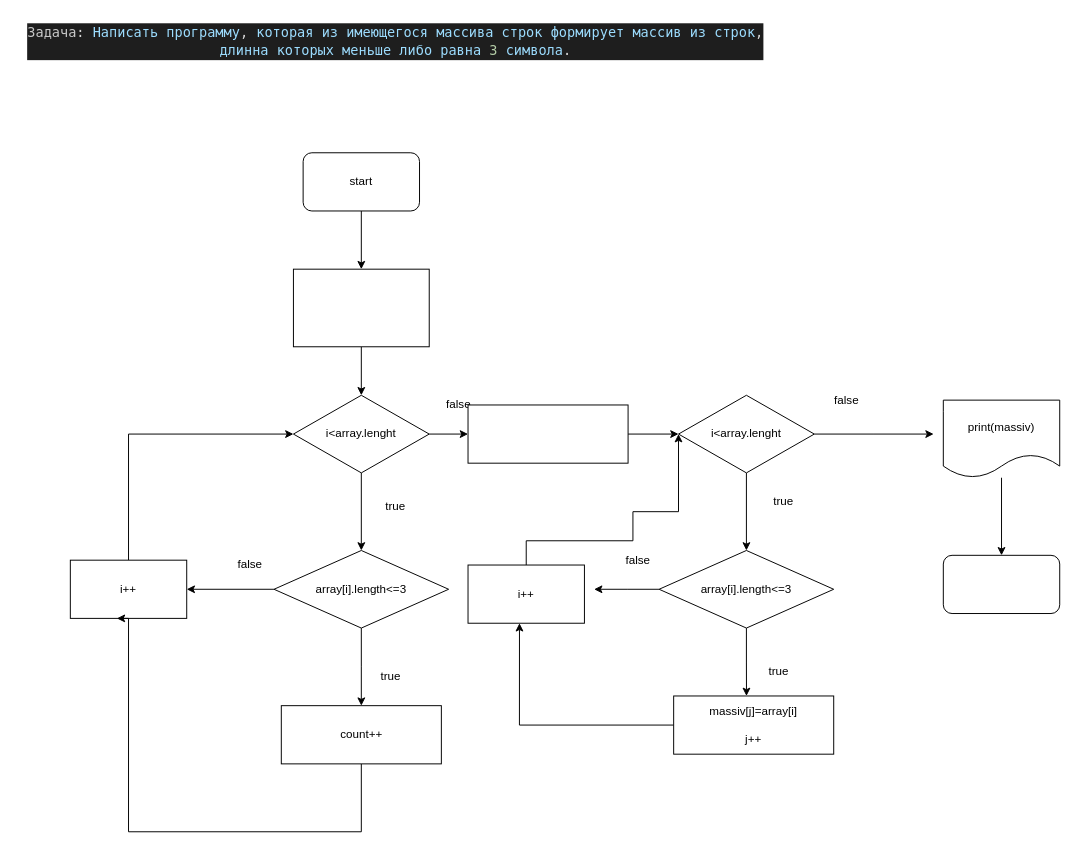
Some shapes in this 1077 by 857 pixel diagram are drawn without their labels. Here are the shapes that lost their labels. From the top down, the box of each, then its label:
(292, 268, 429, 347): array = {"Hello", "2","world",":-)"} i= 0 count=0
(467, 404, 628, 463): string[] massiv = new string[count] j = 0 i= 0
(942, 554, 1060, 614): finish
